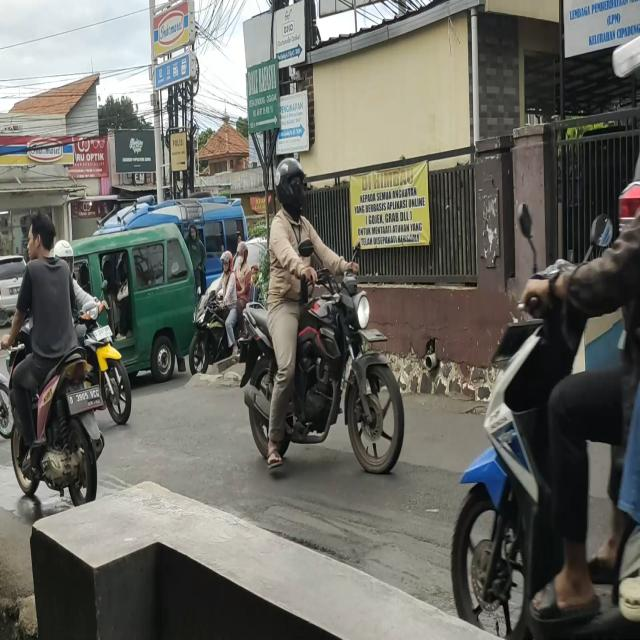helmet: (274, 157, 307, 208), (59, 242, 74, 273), (238, 243, 248, 271), (222, 254, 232, 273)
no-helmet: (26, 212, 56, 263)
